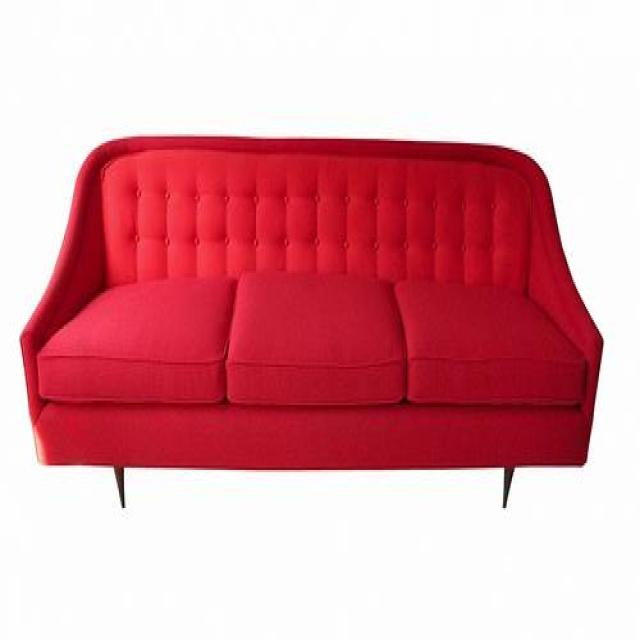sofa: (19, 132, 604, 510)
